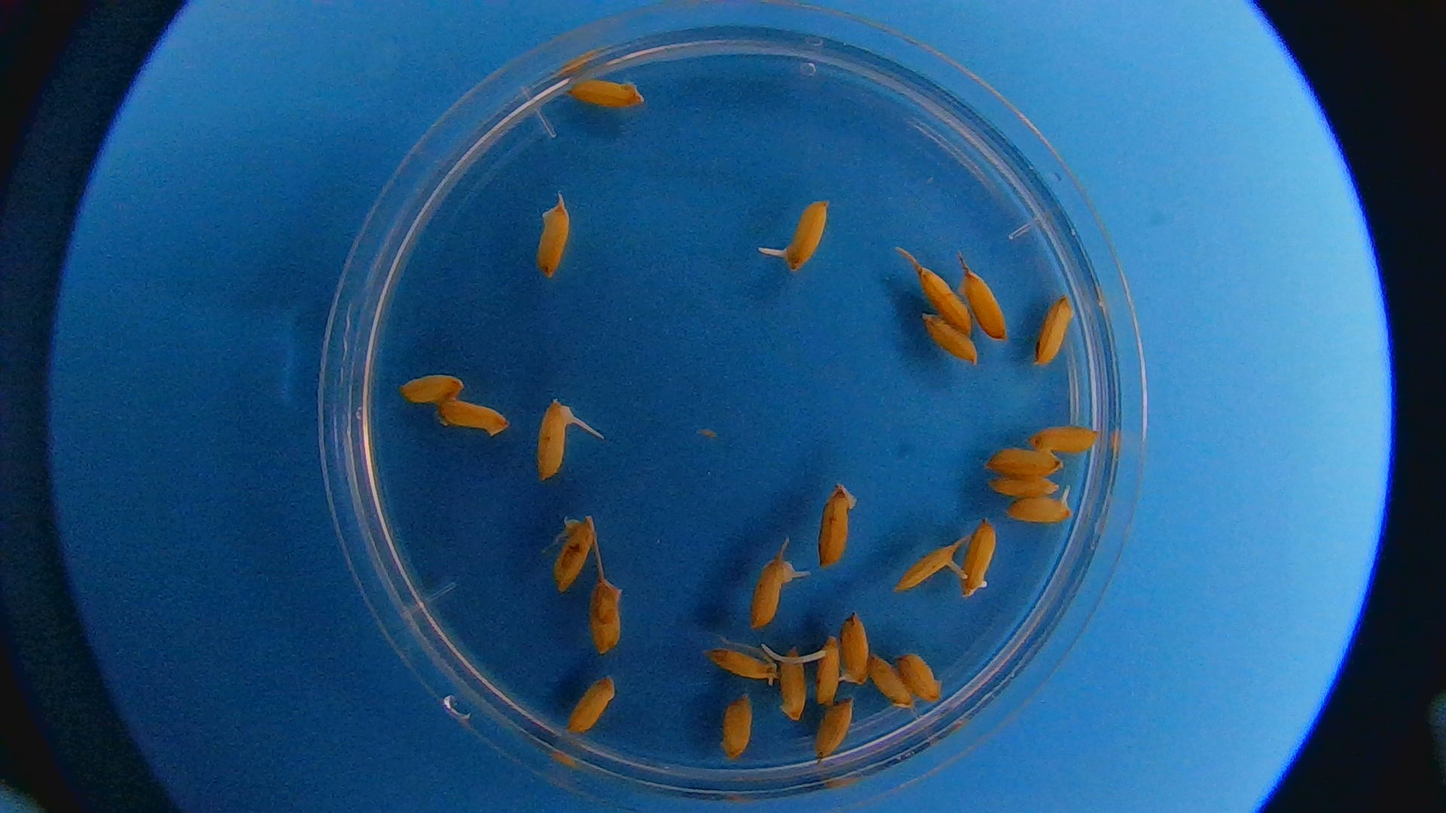no: (897, 252, 975, 335), (809, 481, 860, 568), (545, 513, 598, 592), (956, 267, 1011, 343), (531, 190, 576, 282), (1030, 291, 1078, 369), (917, 315, 982, 367), (566, 671, 615, 738), (566, 75, 649, 114), (862, 653, 917, 711), (704, 641, 777, 684), (835, 610, 875, 687), (962, 518, 999, 601), (588, 569, 624, 654), (775, 648, 810, 734), (438, 397, 511, 438), (813, 698, 860, 760), (985, 442, 1068, 477), (896, 647, 944, 707), (721, 695, 760, 763), (1028, 422, 1099, 459), (392, 370, 469, 403), (990, 471, 1058, 498)
yes: (532, 399, 575, 486), (782, 196, 829, 273), (749, 559, 799, 630), (896, 541, 958, 595), (1005, 487, 1075, 526), (811, 632, 846, 708)
